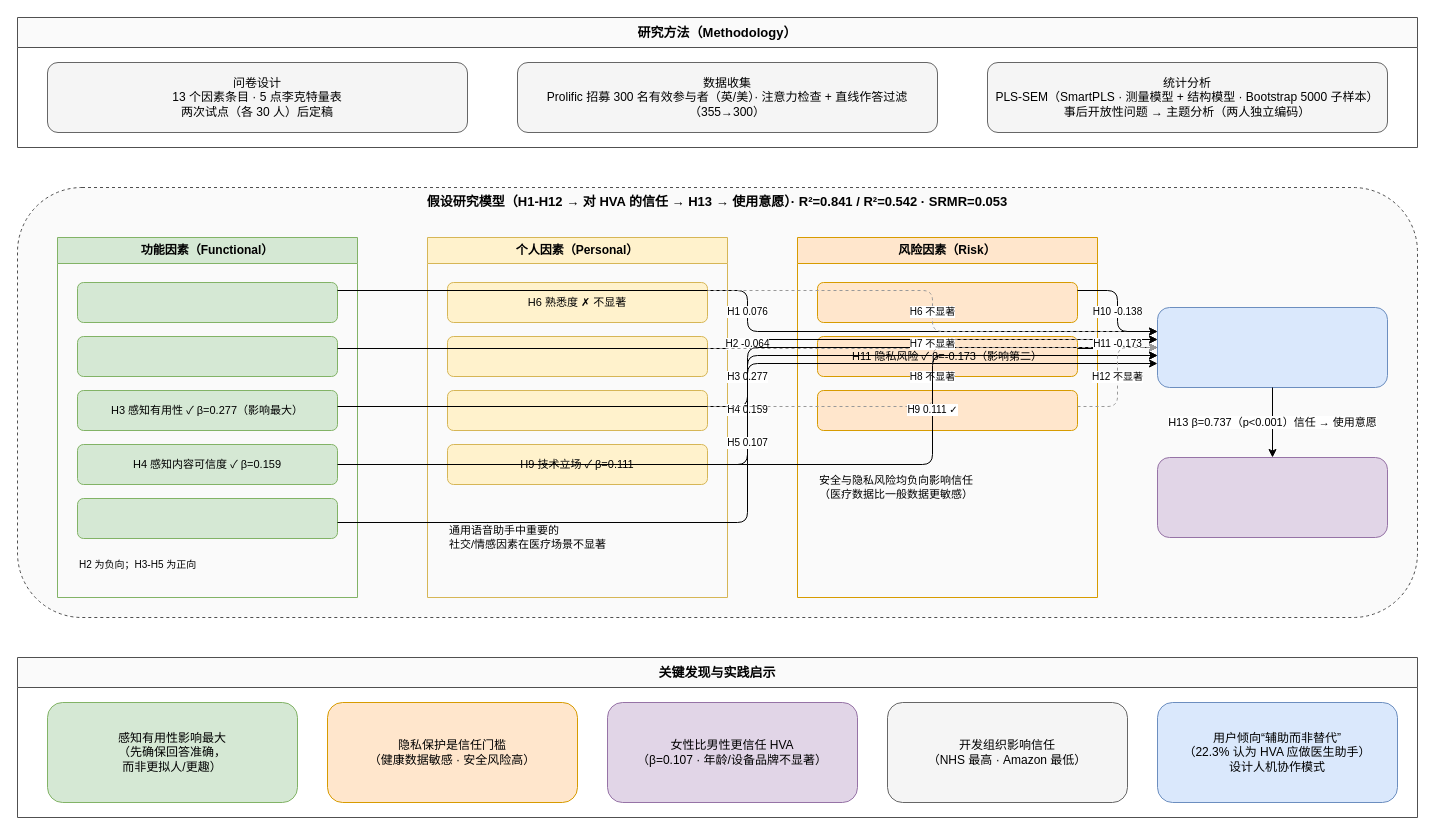
Image size: 1435x835. Some labels were removed from this diagram. The centre of each missing label's shape, as x and y in pixels:
H1 拟人化 ✓ β=0.076: (x=207, y=302)
H10 安全风险 ✓ β=-0.138: (x=947, y=302)
H12 感知替代风险 ✗ 不显著: (x=947, y=410)
H2 努力期望 ✓ β=-0.064: (x=207, y=356)
H5 感知相对服务质量 ✓ β=0.107: (x=207, y=518)
H7 技术依恋 ✗ 不显著: (x=577, y=356)
H8 社会影响 ✗ 不显著: (x=577, y=410)
使用意愿 （Intention to Use） R² = 0.542: (x=1272, y=497)
对 HVA 的信任 （Trust） R² = 0.841: (x=1272, y=347)
